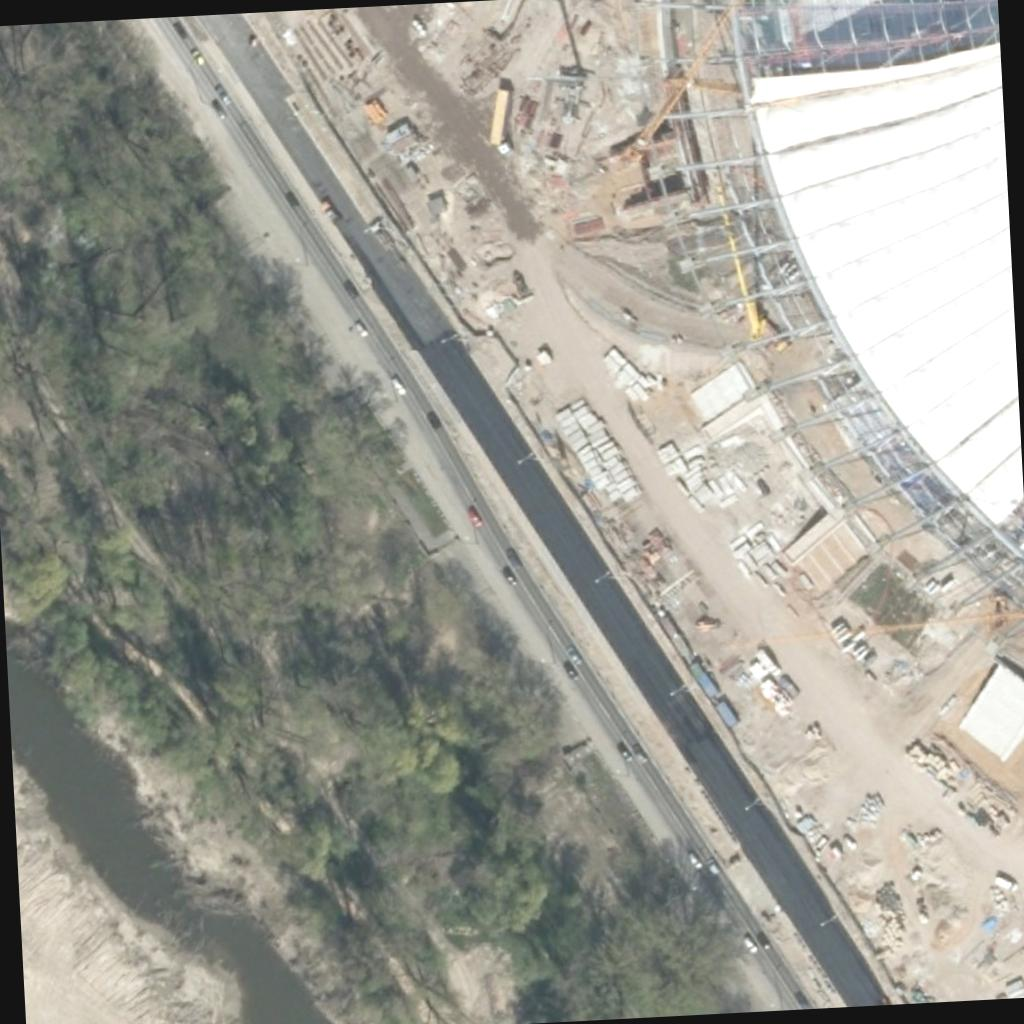ciezarowka: (486, 88, 514, 158)
samochod_osobowy: (562, 643, 588, 669), (560, 660, 582, 689), (738, 932, 764, 956), (466, 504, 486, 534), (504, 545, 526, 572), (425, 409, 448, 434), (792, 988, 818, 1010), (706, 854, 728, 878), (500, 566, 520, 591), (632, 744, 652, 768), (390, 376, 410, 400), (342, 277, 360, 301), (686, 852, 706, 872), (215, 81, 231, 105), (616, 746, 634, 766), (190, 48, 206, 70), (212, 99, 226, 124), (355, 322, 371, 342)
zuraw_mobilny: (709, 179, 793, 361)
zuraw_wiezowy: (615, 0, 766, 167), (717, 593, 1024, 657)
